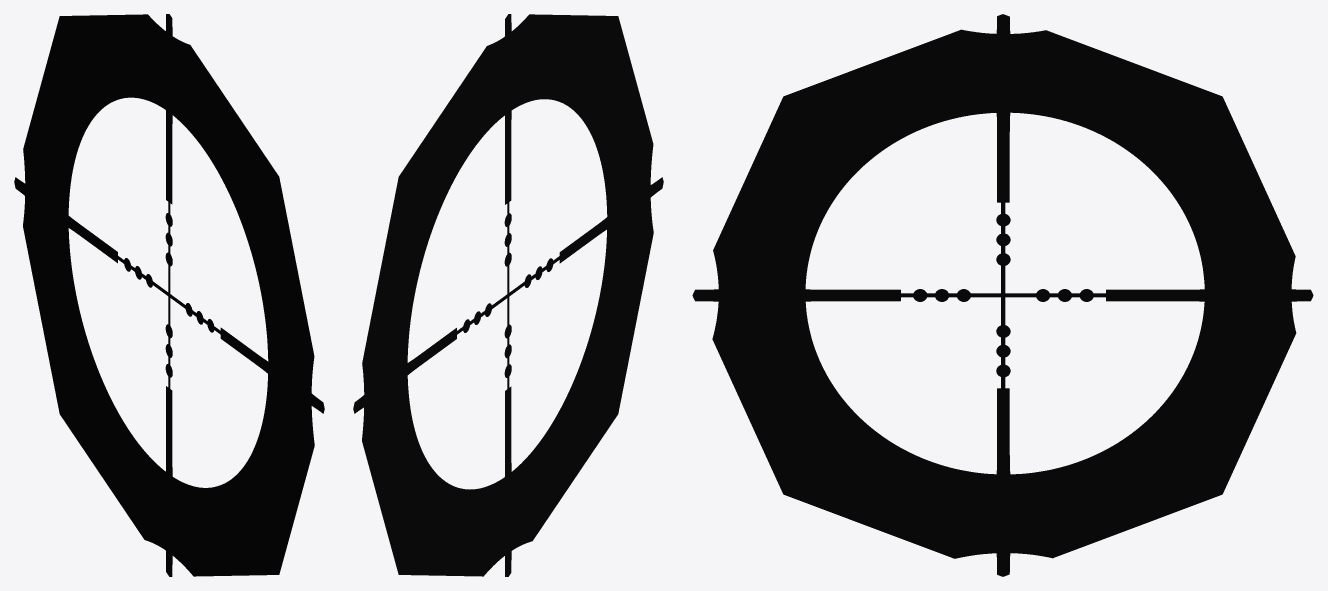
File: Sight_03_Crosshair.fbx
3 renders of one model, left to right at view 1: azimuth 30°, elevation 25°; view 2: azimuth 150°, elevation 25°; view 3: azimuth 270°, elevation 25°, orthographic.
Parts seen in each view (by area): view 1: Sight_03_Crosshair; view 2: Sight_03_Crosshair; view 3: Sight_03_Crosshair.
Part boxes in pixels (box(x1,y1,x2,y2)): Sight_03_Crosshair: box(14, 14, 324, 576); Sight_03_Crosshair: box(353, 14, 663, 576); Sight_03_Crosshair: box(692, 14, 1313, 576).
Bounding box in the file's own units: 0 × 4.92 × 4.92.
